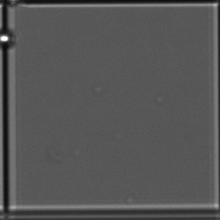Living Cell: (1, 30, 15, 48)
